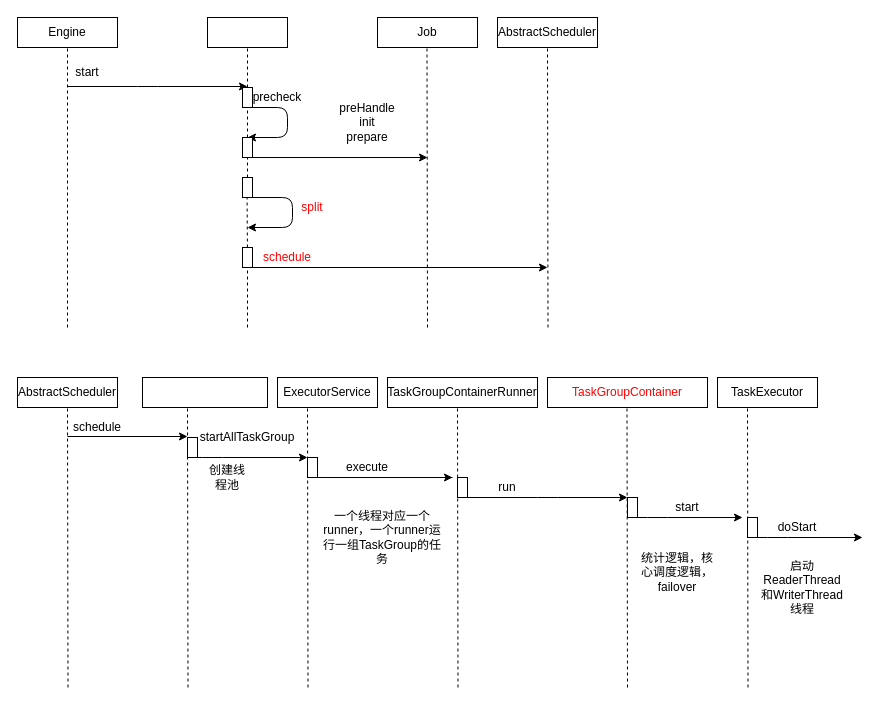
The diagram is 888 pixels wide and 706 high, and some of its shapes have lost their labels. Each missing label, with the box of its shape:
JobContainer: (206, 16, 288, 48)
ProcessInnerScheduler: (142, 376, 268, 408)
